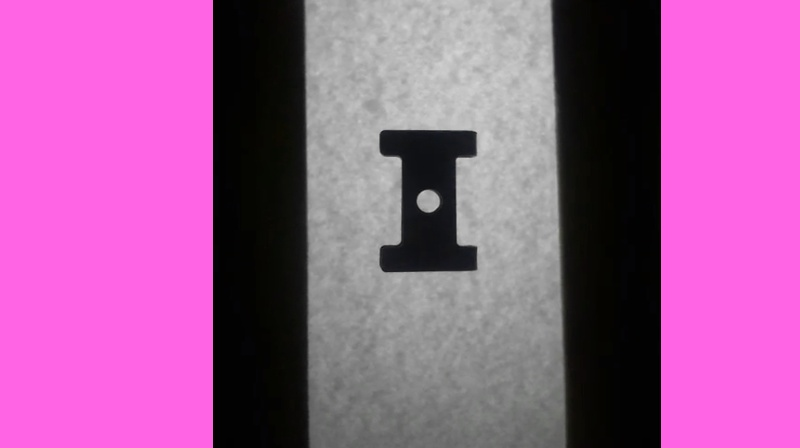O002: (375, 127, 478, 275)
